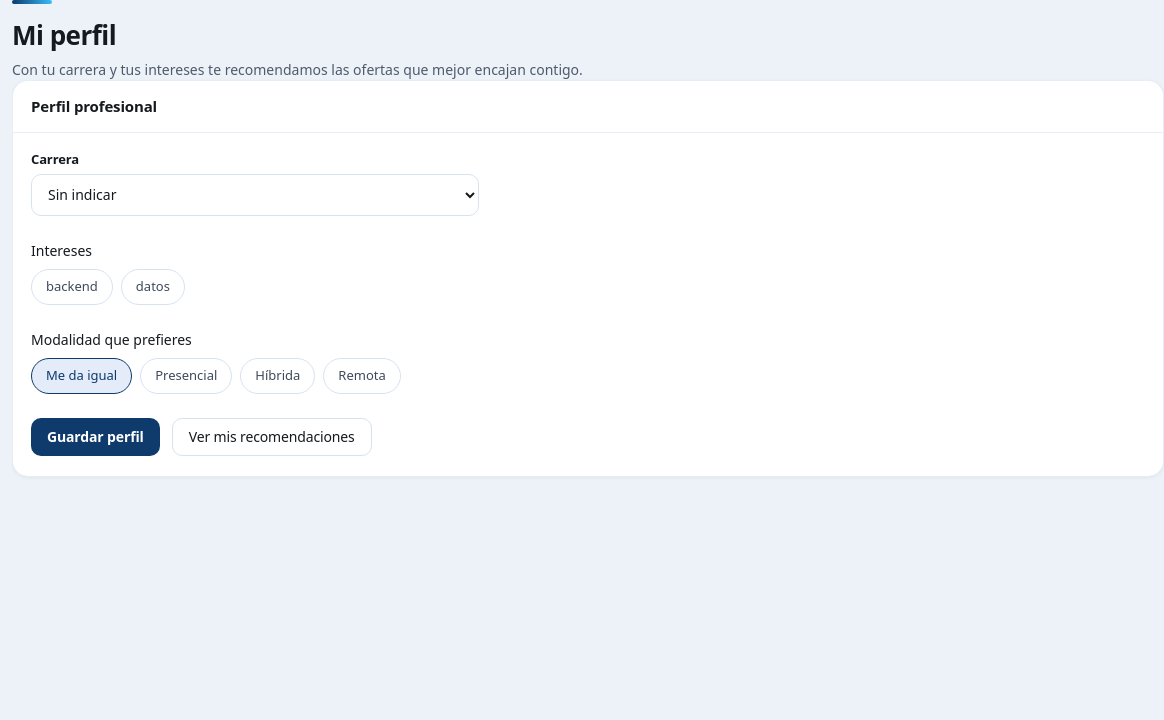
Test: ProfilePage › edits career, interests and modality and saves them
This screenshot has width=1164, height=720.
Select "Ciencia de Datos" in the dropdown labelled "Carrera" at (255, 194), box [31,174,479,216]
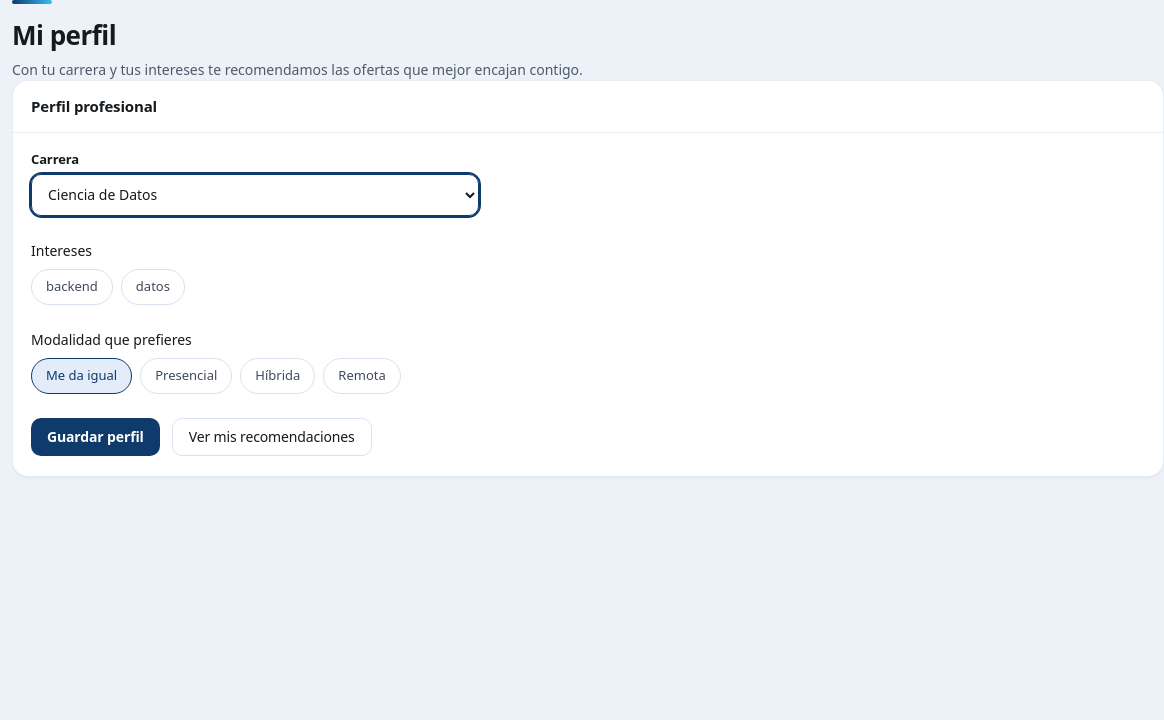
Click the button "datos" at (153, 286), box [121,268,185,304]
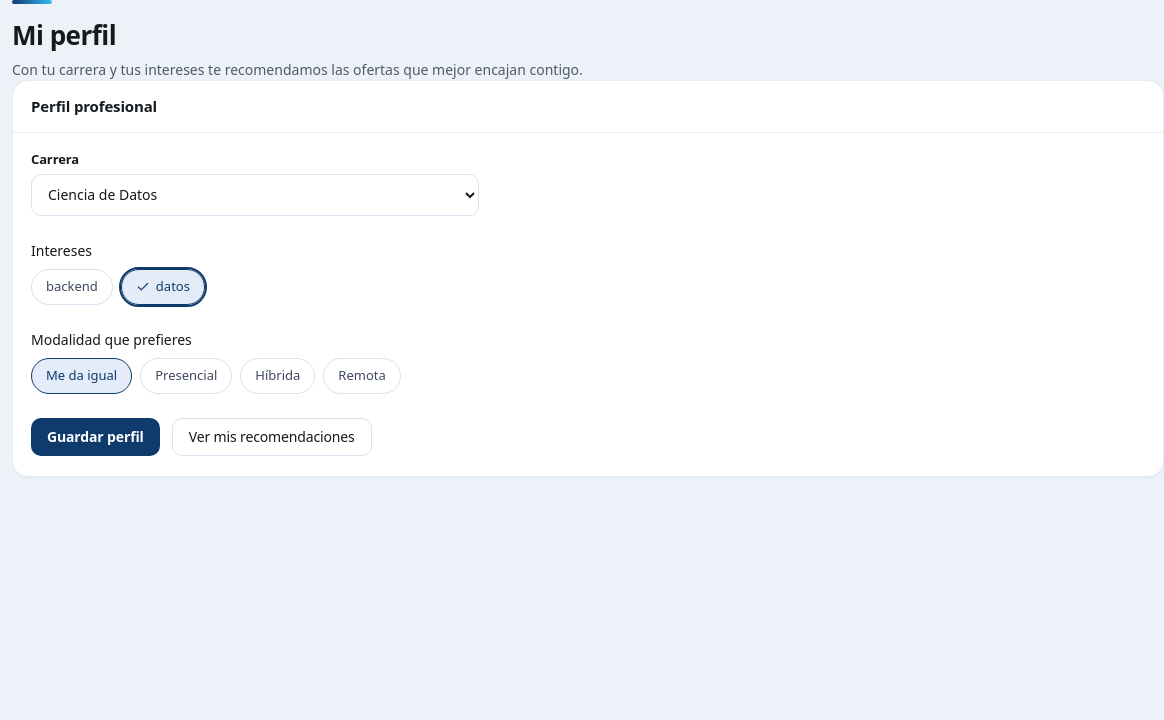
Click the radio button labelled "Remota" at (362, 376), box [323,358,401,394]
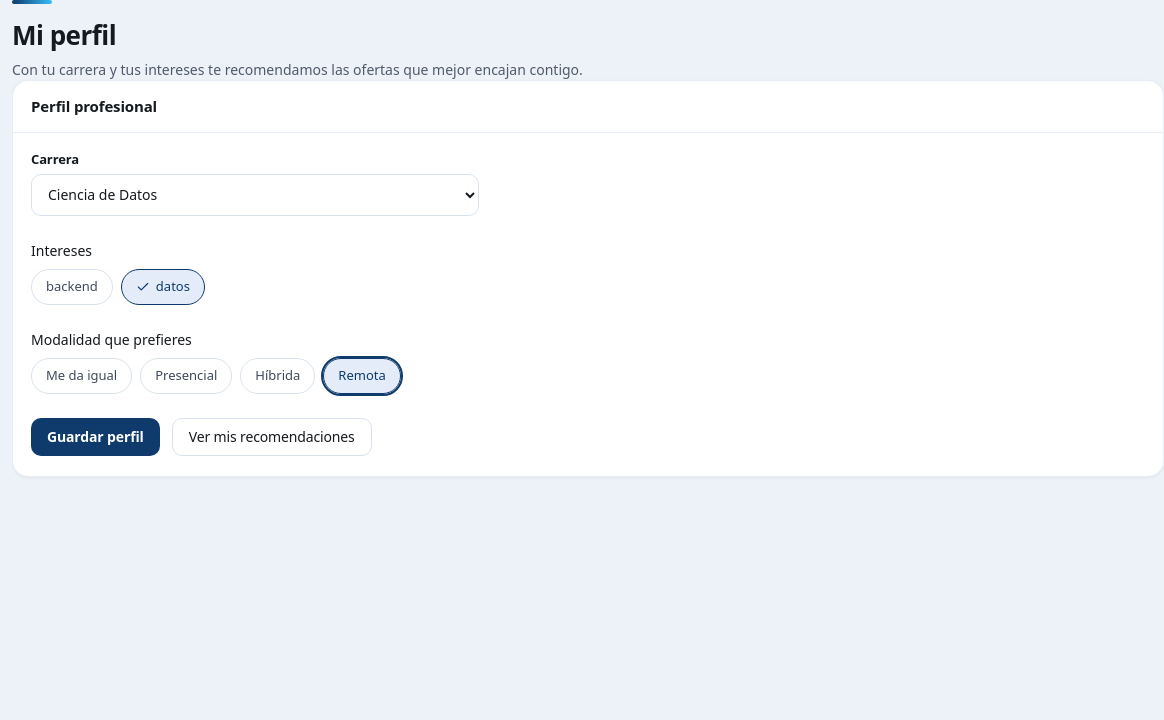
Click the button "Guardar perfil" at (95, 436), box [31,418,160,456]
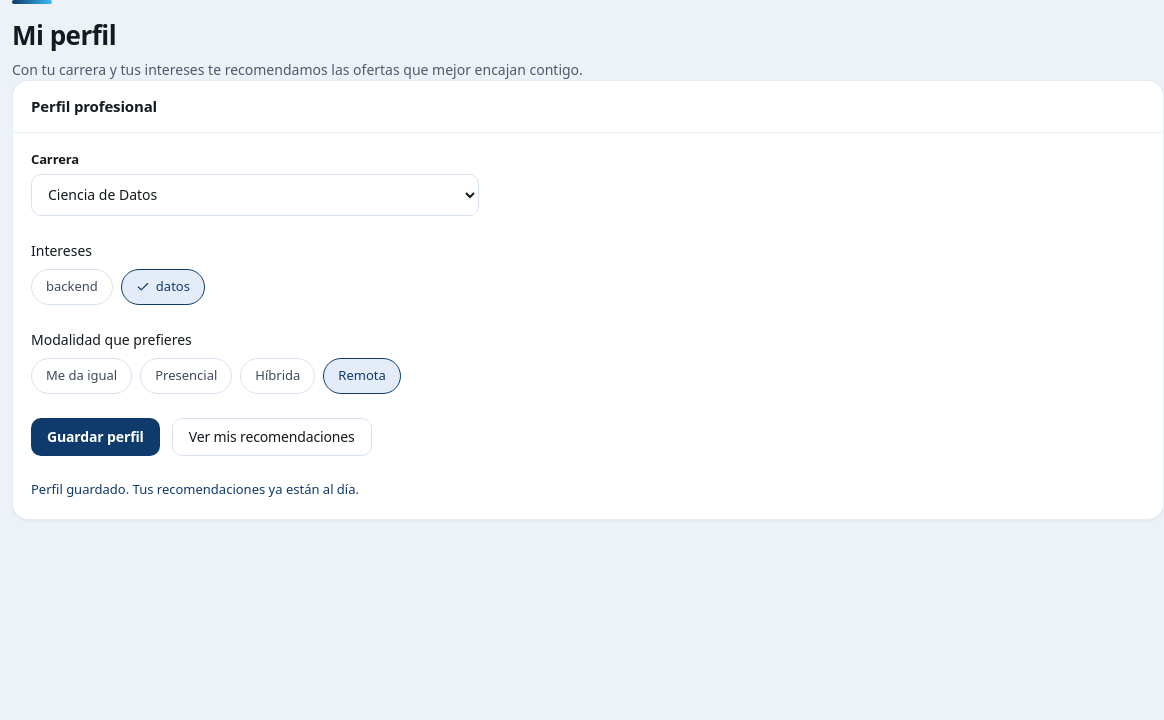
Expected: the text "Perfil guardado. Tus recomendaciones ya están al día." is shown, [31,480,359,498]
